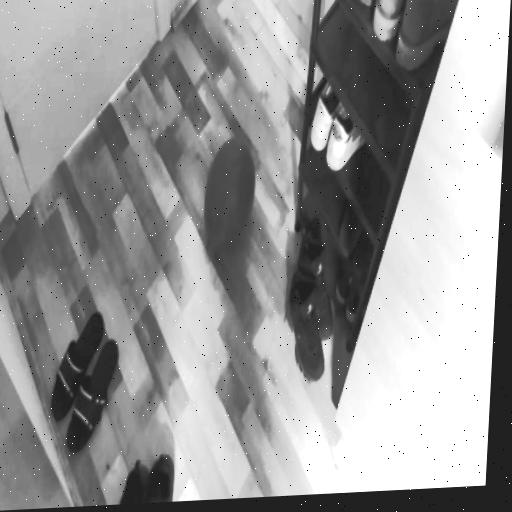balloon: (199, 131, 261, 266)
